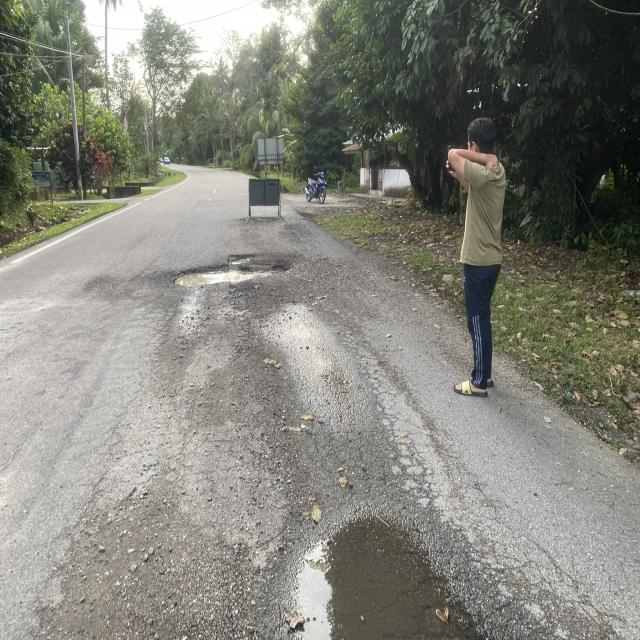Pothole: (158, 237, 314, 306)
